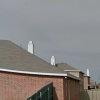Chimney: (80, 67, 94, 91)
